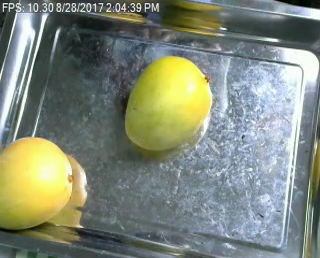Mango: (122, 57, 217, 152), (0, 135, 78, 231)
